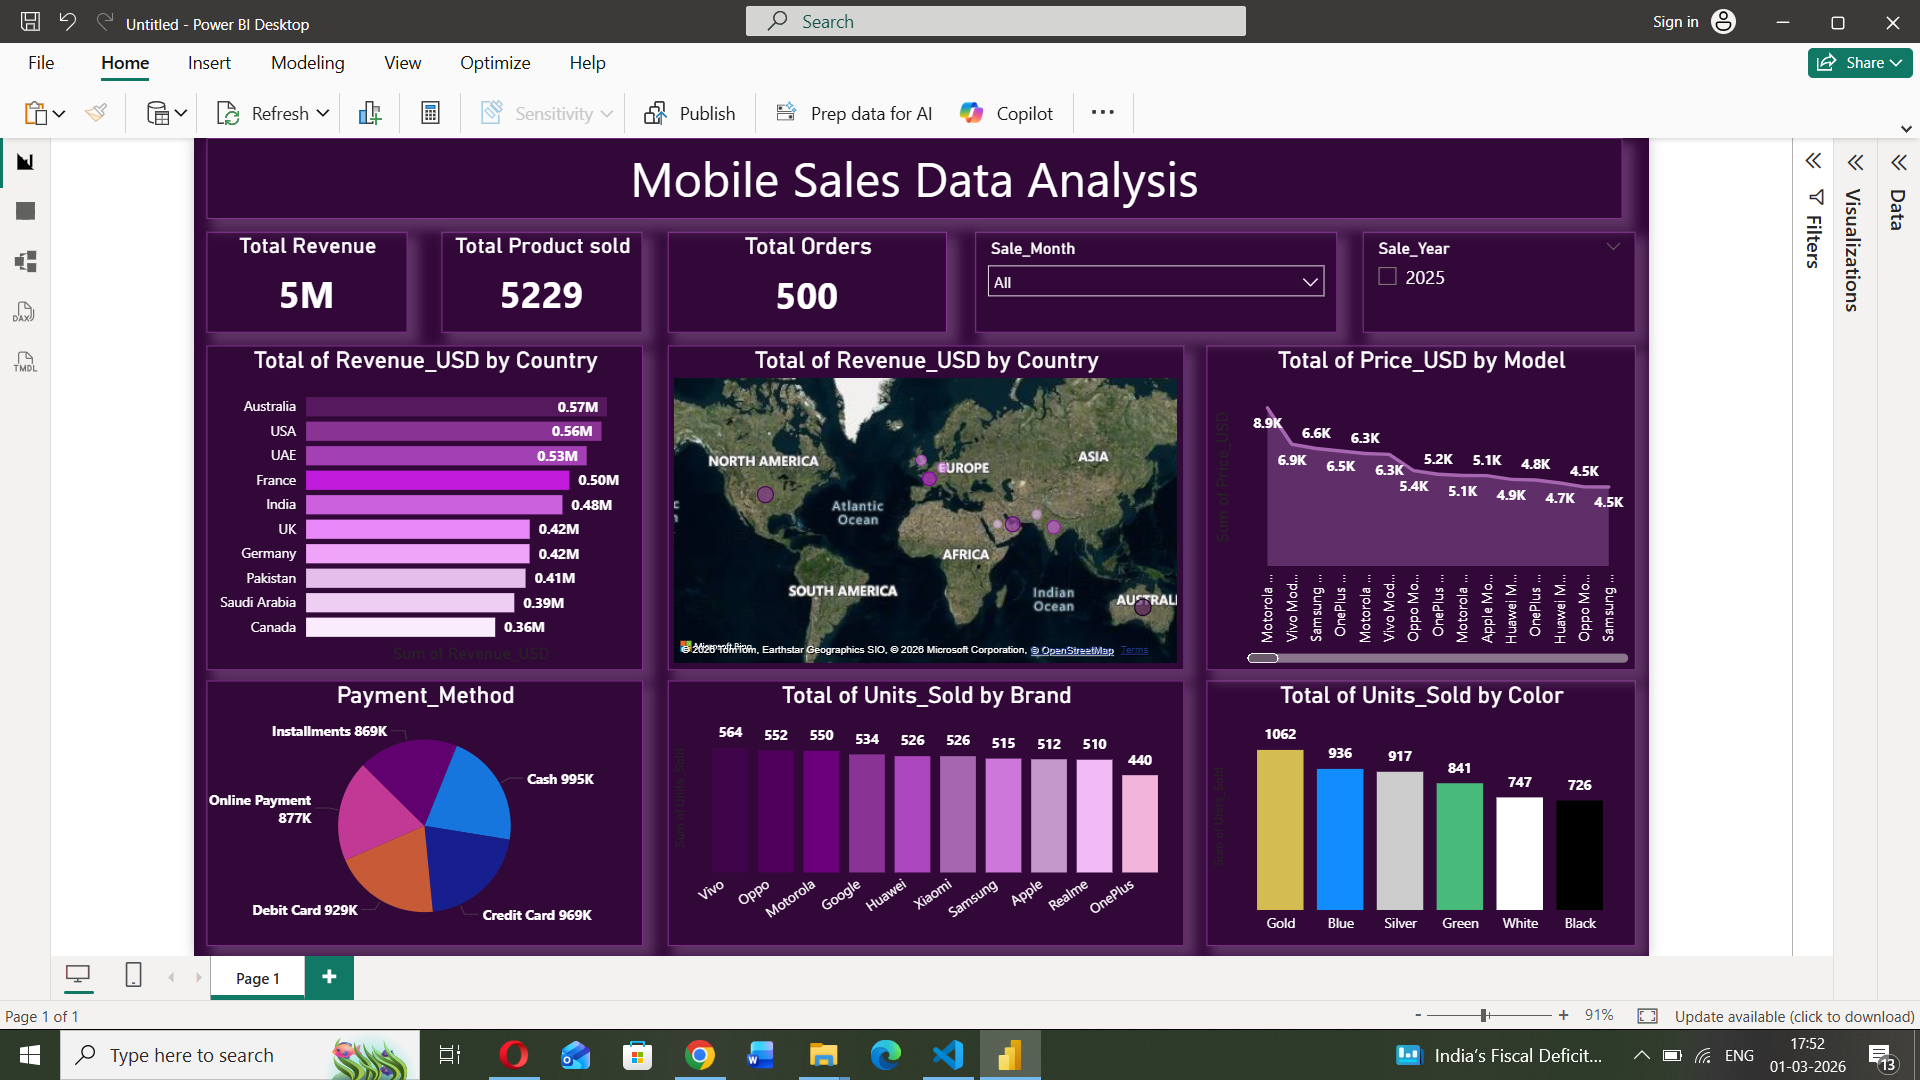

The dashboard page shown, as its layout file describes it:
{"tool":"powerbi","page":{"name":"Page 1","canvas":[1280,720],"ordinal":0},"visuals":[{"type":"card","title":"Total Revenue","fields":{"Values":["Sum(synthetic_mobile_sales_2025.Revenue_USD)"]},"box":[11,82.3,177,89.2],"z":0},{"type":"card","title":"Total Product sold","fields":{"Values":["Sum(synthetic_mobile_sales_2025.Units_Sold)"]},"box":[218.2,82.3,177,89.2],"z":1000},{"type":"card","title":"Total Orders","fields":{"Values":["Count(synthetic_mobile_sales_2025.Sale_ID)"]},"box":[417.2,82.3,245.6,89.2],"z":2000},{"type":"clusteredBarChart","title":"Total of Revenue_USD by Country","fields":{"Y":["Sum(synthetic_mobile_sales_2025.Revenue_USD)"],"Category":["synthetic_mobile_sales_2025.Country"]},"box":[11,182.5,384.2,285.4],"z":3000},{"type":"map","title":"Total of Revenue_USD by Country","fields":{"Category":["synthetic_mobile_sales_2025.Country"],"Size":["Sum(synthetic_mobile_sales_2025.Revenue_USD)"]},"box":[417.2,182.5,454.2,285.4],"z":4000},{"type":"pieChart","title":" Payment_Method","fields":{"Category":["synthetic_mobile_sales_2025.Payment_Method"],"Y":["Sum(synthetic_mobile_sales_2025.Revenue_USD)"]},"box":[11,477.5,384.2,233.3],"z":5000},{"type":"columnChart","title":"Total of Units_Sold by Brand","fields":{"Category":["synthetic_mobile_sales_2025.Brand"],"Y":["Sum(synthetic_mobile_sales_2025.Units_Sold)"]},"box":[417.2,477.5,454.2,233.3],"z":5001},{"type":"columnChart","title":"Total of Units_Sold by Color","fields":{"Category":["synthetic_mobile_sales_2025.Color"],"Y":["Sum(synthetic_mobile_sales_2025.Units_Sold)"]},"box":[890.6,477.5,377.4,233.3],"z":5002},{"type":"areaChart","title":"Total of Price_USD by Model","fields":{"Category":["synthetic_mobile_sales_2025.Model"],"Y":["Sum(synthetic_mobile_sales_2025.Price_USD)"]},"box":[890.6,182.5,377.4,285.4],"z":5003},{"type":"slicer","fields":{"Values":["synthetic_mobile_sales_2025.Sale_Month"]},"box":[687.5,82.3,318.4,89.2],"z":5004},{"type":"slicer","fields":{"Values":["synthetic_mobile_sales_2025.Sale_Year"]},"box":[1027.8,82.3,240.1,89.2],"z":5005},{"type":"textbox","box":[11,0,1246,71.4],"z":5006}]}

Visuals, with their boxes on the page's 1280x720 design canvas (x1, y1, x2, y2). These are canvas units, not pixel positions in the 1920x1080 screenshot, which may show the page scaled, cropped or inside an application window:
"Total Revenue" card: {"left": 11, "top": 82, "right": 188, "bottom": 172}
"Total Product sold" card: {"left": 218, "top": 82, "right": 395, "bottom": 172}
"Total Orders" card: {"left": 417, "top": 82, "right": 663, "bottom": 172}
"Total of Revenue_USD by Country" clusteredBarChart: {"left": 11, "top": 182, "right": 395, "bottom": 468}
"Total of Revenue_USD by Country" map: {"left": 417, "top": 182, "right": 871, "bottom": 468}
" Payment_Method" pieChart: {"left": 11, "top": 478, "right": 395, "bottom": 711}
"Total of Units_Sold by Brand" columnChart: {"left": 417, "top": 478, "right": 871, "bottom": 711}
"Total of Units_Sold by Color" columnChart: {"left": 891, "top": 478, "right": 1268, "bottom": 711}
"Total of Price_USD by Model" areaChart: {"left": 891, "top": 182, "right": 1268, "bottom": 468}
slicer - synthetic_mobile_sales_2025.Sale_Month: {"left": 688, "top": 82, "right": 1006, "bottom": 172}
slicer - synthetic_mobile_sales_2025.Sale_Year: {"left": 1028, "top": 82, "right": 1268, "bottom": 172}
textbox: {"left": 11, "top": 0, "right": 1257, "bottom": 71}
